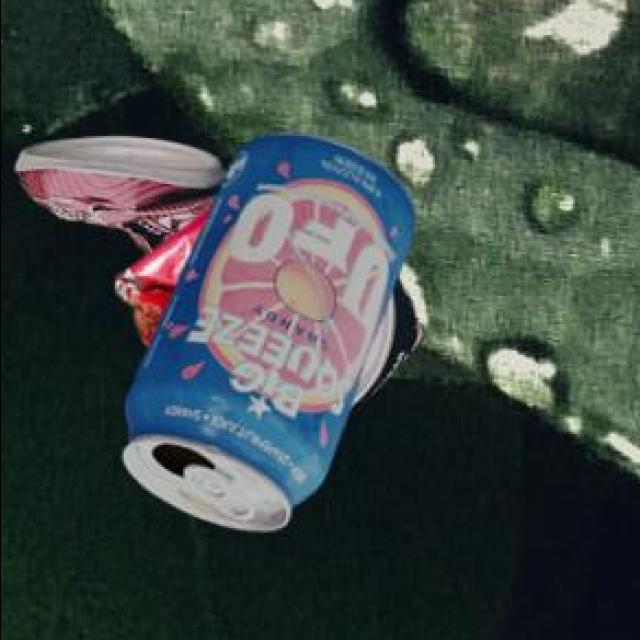logam: (126, 130, 415, 527), (19, 133, 229, 257), (236, 275, 424, 402), (119, 204, 214, 343)
